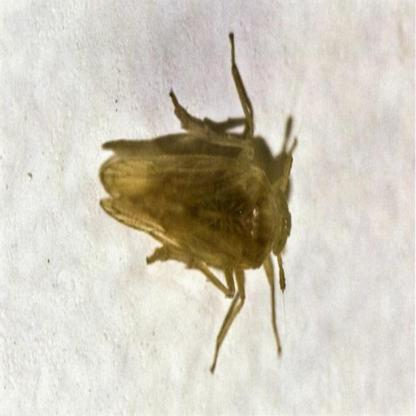brown-planthopper: (96, 87, 295, 356)
